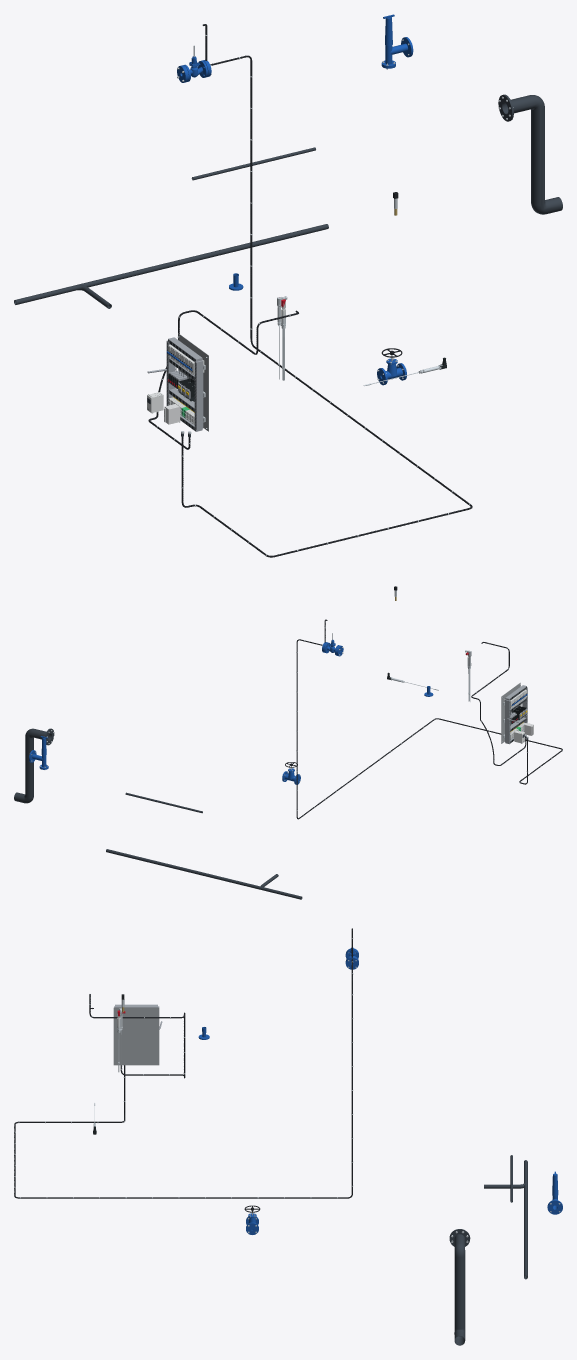
File: s4000-7-71so3Fnd.glb
3 renders of one model, top to bottom at view 1: azimuth 30°, elevation 25°; view 2: azimuth 150°, elevation 25°; view 3: azimuth 270°, elevation 25°, orthographic. The views are drawn at different scales.
Visible parts, largest first — view 1: cabinet_interior / cabinet_interior_0.npz, mod_eco_drive_cable / black, bdv_water_drain / dark, bottom_discharge / dark, flash_steam_common / blue, wiring_lp200 / black; view 2: cabinet_interior / cabinet_interior_0.npz, mod_eco_drive_cable / black, bdv_water_drain / dark, bottom_discharge / dark; view 3: cabinet_interior / cabinet_interior_0.npz, mod_eco_drive_cable / black, bdv_water_drain / dark.
Boxes of the visible parts, x1=… form: cabinet_interior / cabinet_interior_0.npz: x1=147, y1=333, x2=208, y2=431; mod_eco_drive_cable / black: x1=181, y1=24, x2=472, y2=557; bdv_water_drain / dark: x1=498, y1=94, x2=562, y2=214; bottom_discharge / dark: x1=14, y1=224, x2=328, y2=304; flash_steam_common / blue: x1=381, y1=14, x2=413, y2=68; wiring_lp200 / black: x1=148, y1=310, x2=298, y2=449; cabinet_interior / cabinet_interior_0.npz: x1=501, y1=682, x2=527, y2=744; mod_eco_drive_cable / black: x1=296, y1=619, x2=562, y2=819; bdv_water_drain / dark: x1=14, y1=728, x2=54, y2=803; bottom_discharge / dark: x1=106, y1=849, x2=301, y2=899; cabinet_interior / cabinet_interior_0.npz: x1=113, y1=1004, x2=162, y2=1065; mod_eco_drive_cable / black: x1=14, y1=928, x2=352, y2=1198; bdv_water_drain / dark: x1=449, y1=1229, x2=470, y2=1345.
Size of the model in its own units: 5.68 by 3.07 by 5.82.
